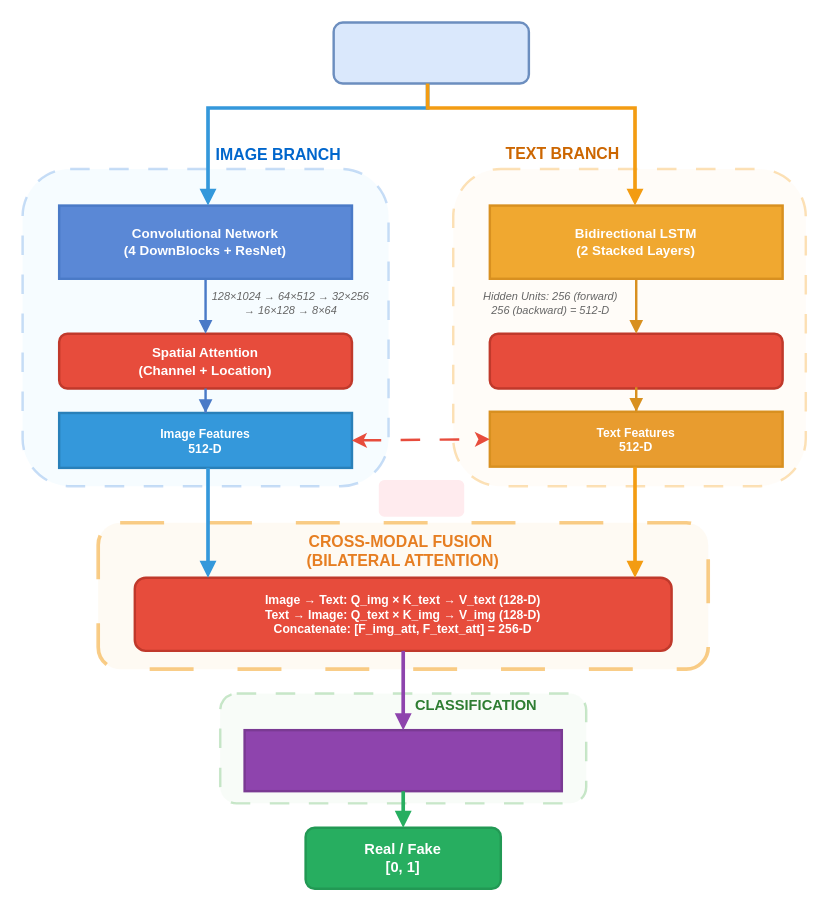
This 827x910 diagram has some shape labels left out. Here are the shapes that lost their labels. From the top down, the centre of each, then its label:
At [430,52]: "Input Image 128 × 1024 × 1".
At [635,360]: "Self-Attention (Query-Key-Value)".
At [421,497]: "Bilateral Attention".
At [402,760]: "MLP Classifier Dense-512 → Dense-256 → Output (LeakyReLU + Dropout 0.1)".
